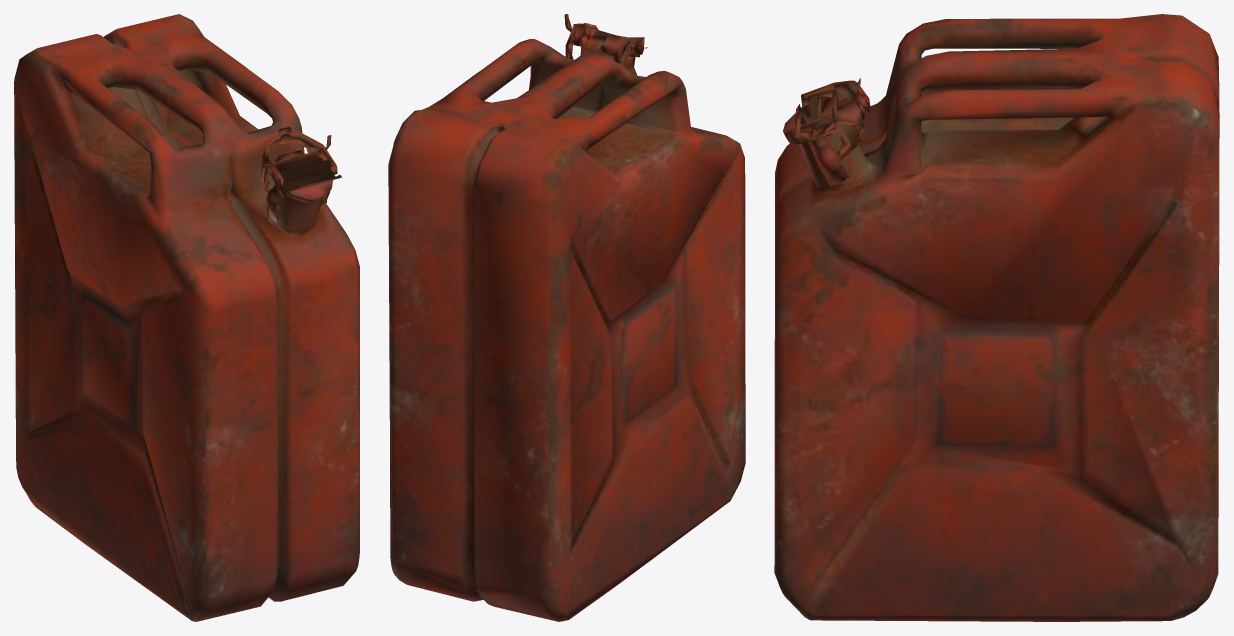
The model's file is jerrySteel.glb.
3 views of the same model, side by side, from view 1: azimuth 30°, elevation 25°; view 2: azimuth 150°, elevation 25°; view 3: azimuth 270°, elevation 25° (orthographic). The views are drawn at different scales.
Parts seen in each view (by area): view 1: metal_jerrycan; view 2: metal_jerrycan; view 3: metal_jerrycan.
Part boxes in pixels (x1,y1,x2,y2): metal_jerrycan: (14, 14, 359, 621); metal_jerrycan: (388, 14, 745, 621); metal_jerrycan: (774, 14, 1219, 621).
Size of the model in its own units: 0.1717 by 0.4548 by 0.3481.
Materials: 1 (1 with a texture image).
